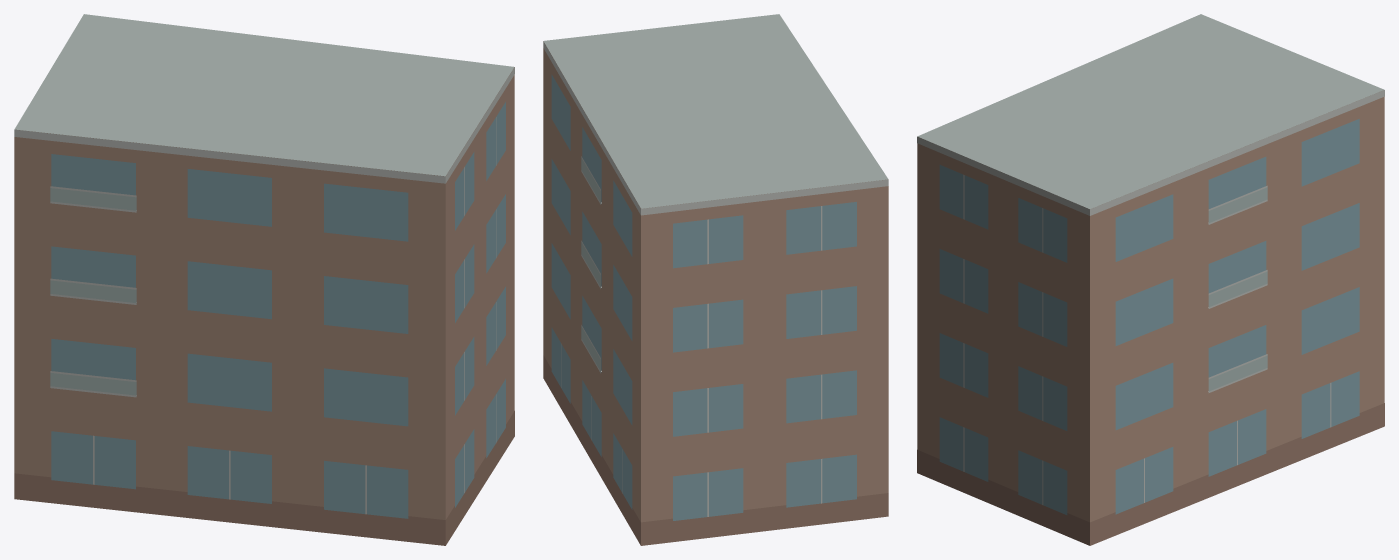
The model's file is survey-upis-32499142.glb.
3 renders of one model, left to right at view 1: azimuth 30°, elevation 25°; view 2: azimuth 150°, elevation 25°; view 3: azimuth 270°, elevation 25°, orthographic. The views are drawn at different scales.
Parts seen in each view (by area): view 1: survey-upis-32499142.tmp; view 2: survey-upis-32499142.tmp; view 3: survey-upis-32499142.tmp.
Boxes of the visible parts, bbox=[...] form: survey-upis-32499142.tmp: bbox=[14, 14, 514, 545]; survey-upis-32499142.tmp: bbox=[543, 14, 888, 545]; survey-upis-32499142.tmp: bbox=[917, 14, 1384, 545].
Size of the model in its own units: 15.19 by 12.2 by 15.37.
